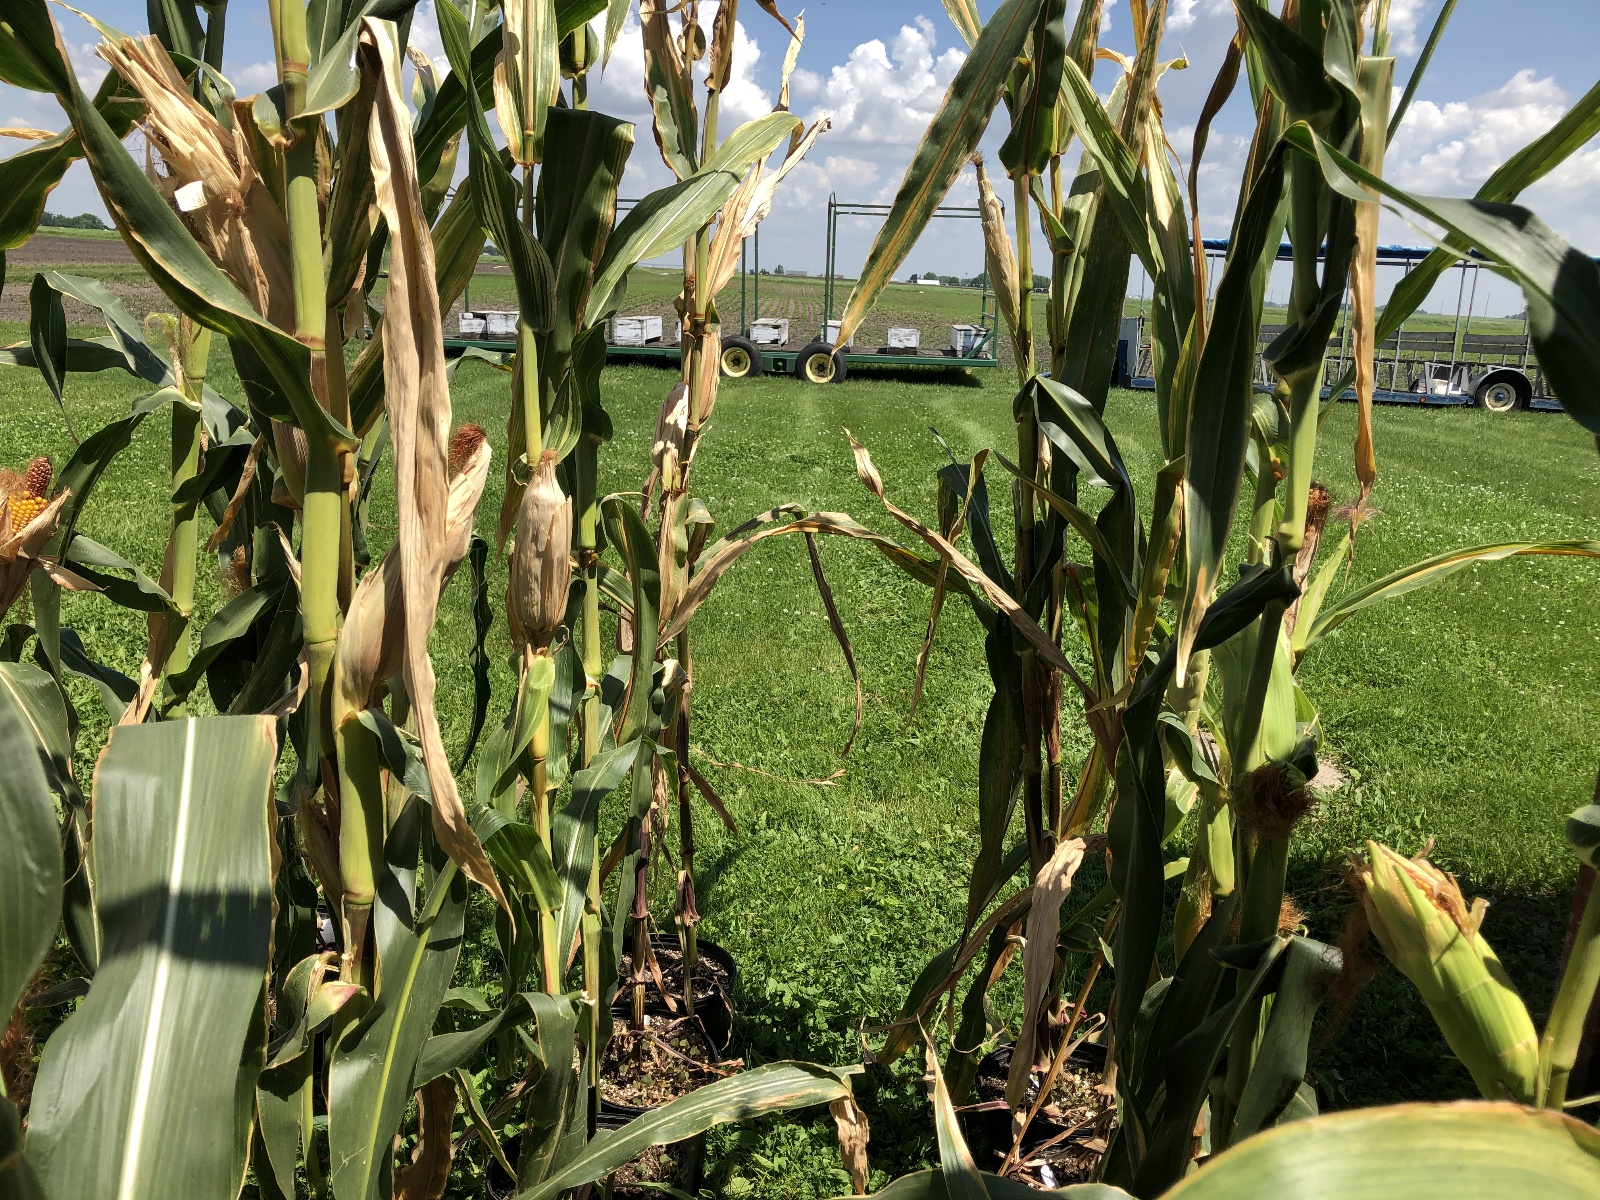ear: (1346, 829, 1548, 1092), (340, 417, 499, 672), (509, 434, 576, 645), (963, 144, 1036, 325), (1, 439, 60, 585)
